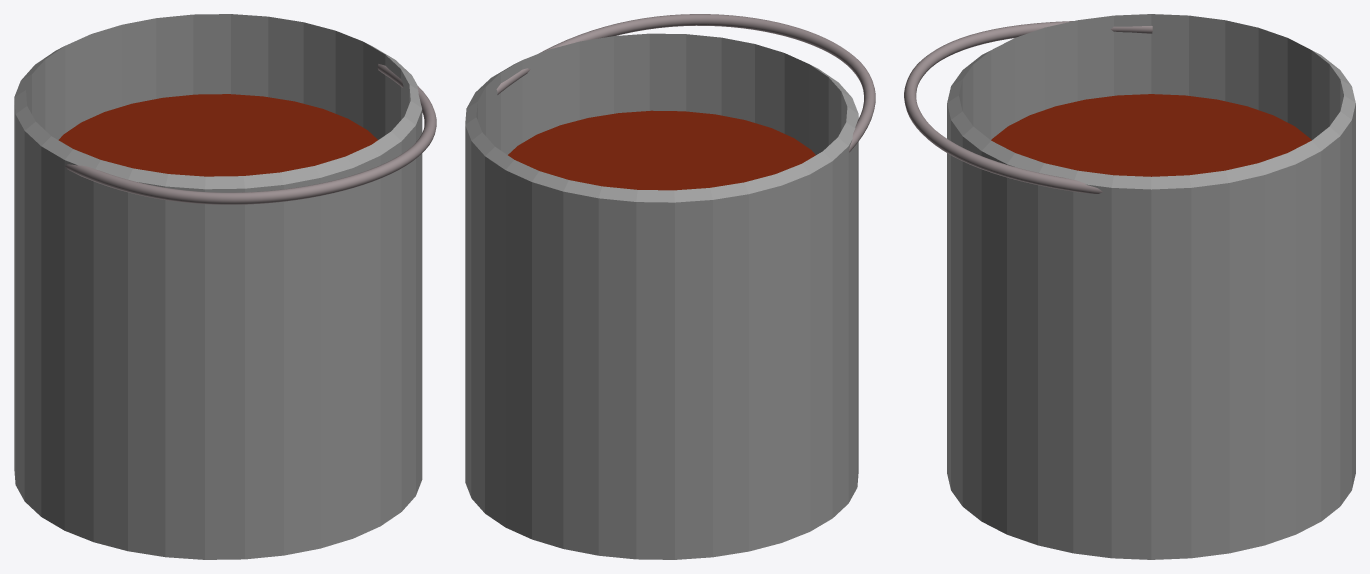
Rendered from BucketRed.fbx.
3 views of the same model, side by side, from view 1: azimuth 30°, elevation 25°; view 2: azimuth 150°, elevation 25°; view 3: azimuth 270°, elevation 25° (orthographic). The views are drawn at different scales.
Parts seen in each view (by area): view 1: BucketRed, BucketRedPaint, BucketRedHandle; view 2: BucketRed, BucketRedPaint, BucketRedHandle; view 3: BucketRed, BucketRedPaint, BucketRedHandle.
Boxes of the visible parts, <box> form: BucketRed: <box>14,14,422,559</box>; BucketRedPaint: <box>58,94,377,176</box>; BucketRedHandle: <box>65,64,436,204</box>; BucketRed: <box>465,33,858,559</box>; BucketRedPaint: <box>508,110,815,190</box>; BucketRedHandle: <box>496,14,875,152</box>; BucketRed: <box>947,14,1355,559</box>; BucketRedPaint: <box>991,94,1311,176</box>; BucketRedHandle: <box>904,21,1152,193</box>.
Size of the model in its own units: 37.32 by 41.24 by 39.1.
